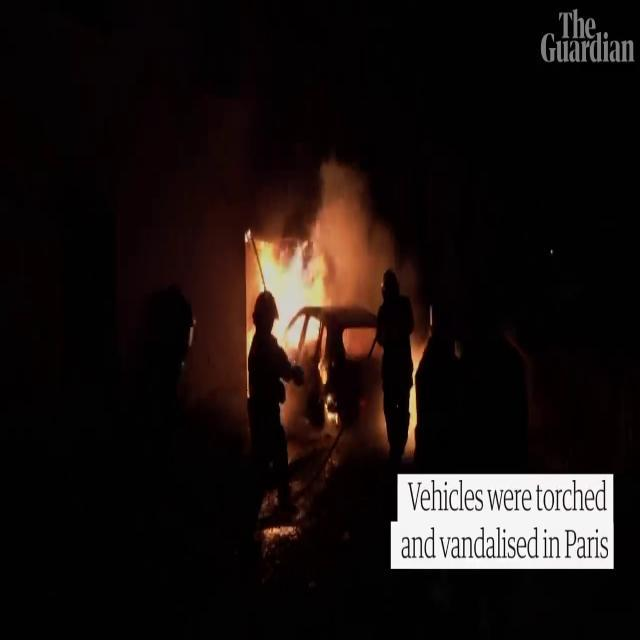Fire: (249, 229, 334, 360)
Smoke: (308, 148, 402, 290)
